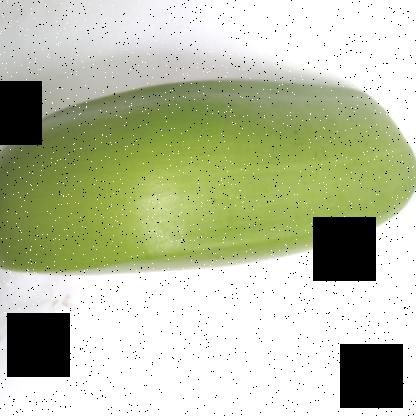freshunripe: (1, 70, 415, 300)
